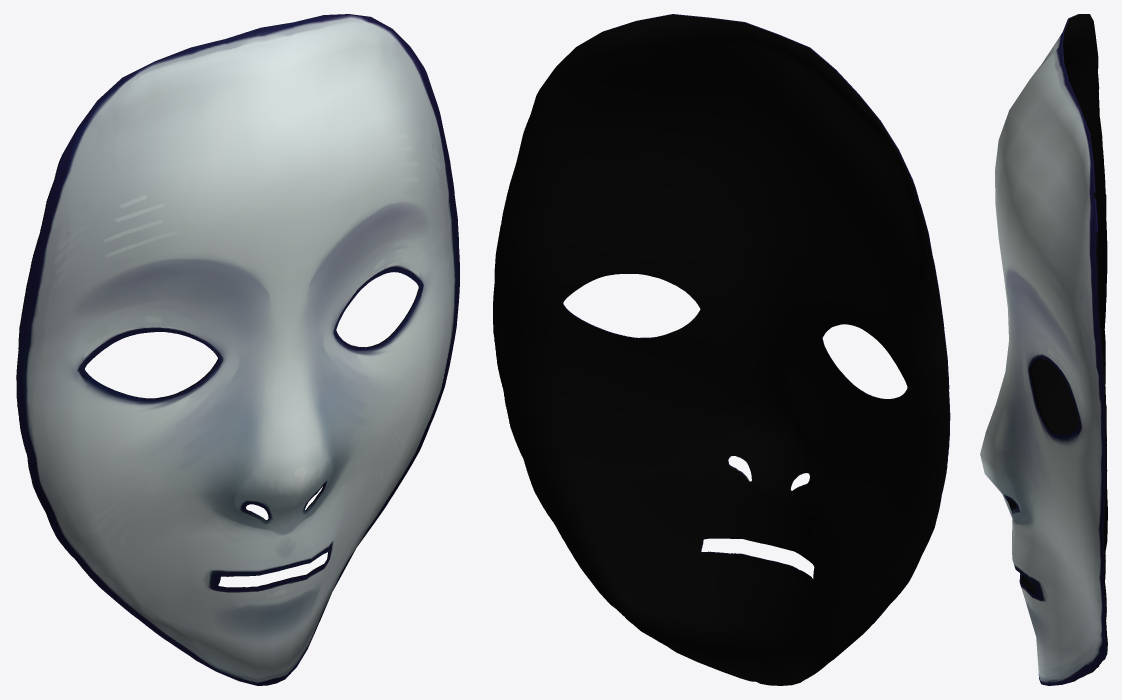
The model's file is WhiteMask.fbx.
3 renders of one model, left to right at view 1: azimuth 30°, elevation 25°; view 2: azimuth 150°, elevation 25°; view 3: azimuth 270°, elevation 25°, orthographic. The views are drawn at different scales.
Visible parts, largest first — view 1: Mask1; view 2: Mask1; view 3: Mask1.
Part boxes in pixels (x1,y1,x2,y2): Mask1: (16,14,459,685); Mask1: (493,14,950,685); Mask1: (980,14,1107,685).
Size of the model in its own units: 3.35 by 4.66 by 0.8498.
Materials: 2 (1 with a texture image).
